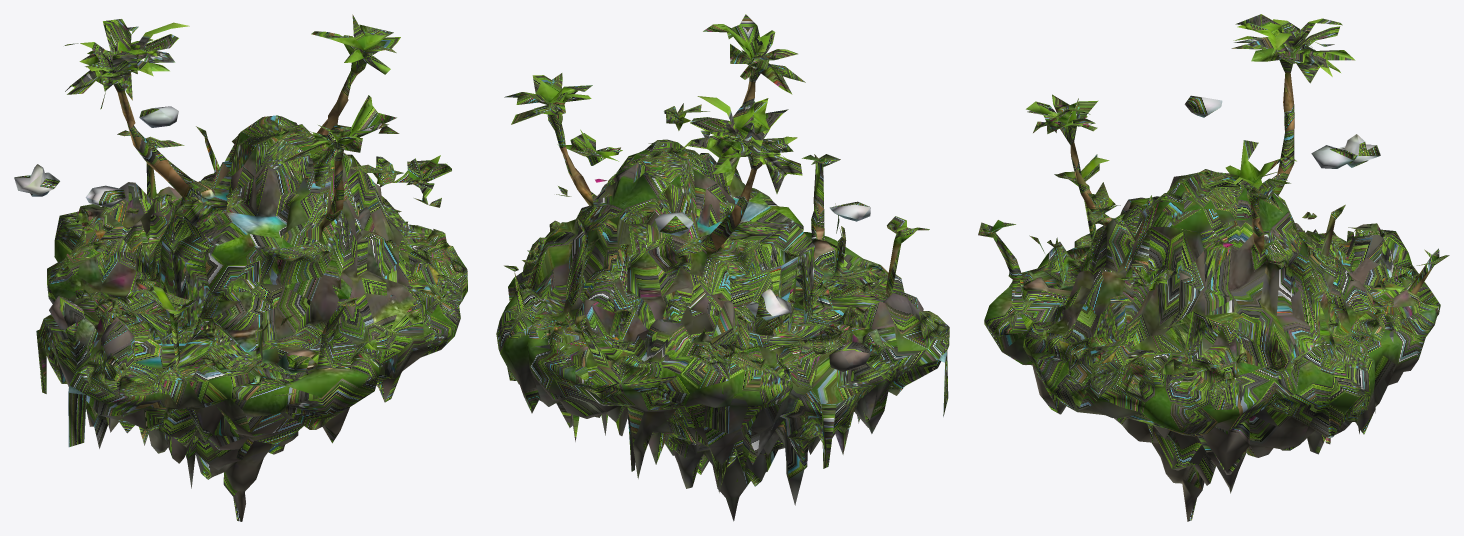
Rendered from _garden_floating_ga.glb.
3 renders of one model, left to right at view 1: azimuth 30°, elevation 25°; view 2: azimuth 150°, elevation 25°; view 3: azimuth 270°, elevation 25°, orthographic. The views are drawn at different scales.
Parts seen in each view (by area): view 1: _garden_floating_ga; view 2: _garden_floating_ga; view 3: _garden_floating_ga.
Part boxes in pixels (<box>): _garden_floating_ga: <box>14,14,467,521</box>; _garden_floating_ga: <box>496,14,949,521</box>; _garden_floating_ga: <box>978,14,1449,521</box>.
Bounding box in the file's own units: 1.8 × 1.99 × 1.8.
1 material, 1 textured.
